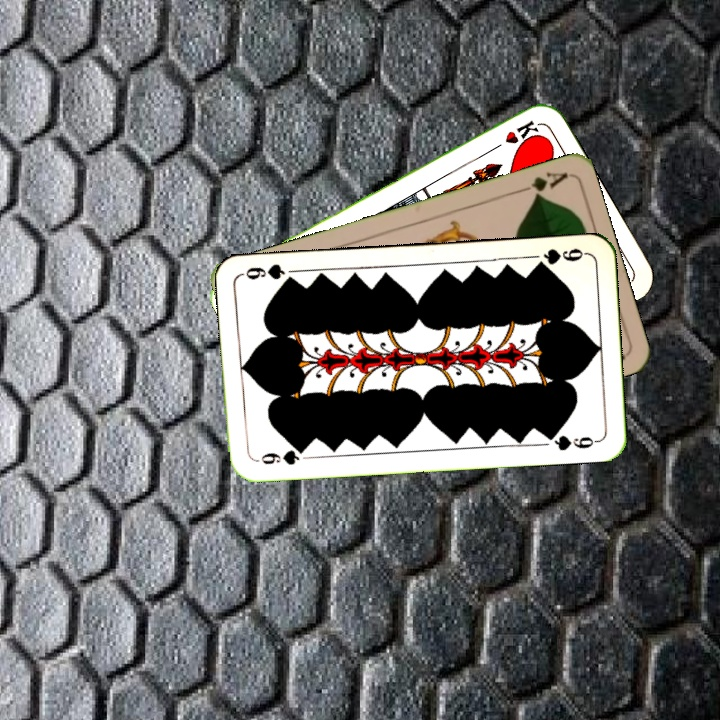G9: (530, 244, 589, 271), (252, 444, 309, 468)
GA: (512, 168, 569, 200)
HK: (485, 116, 541, 155)
